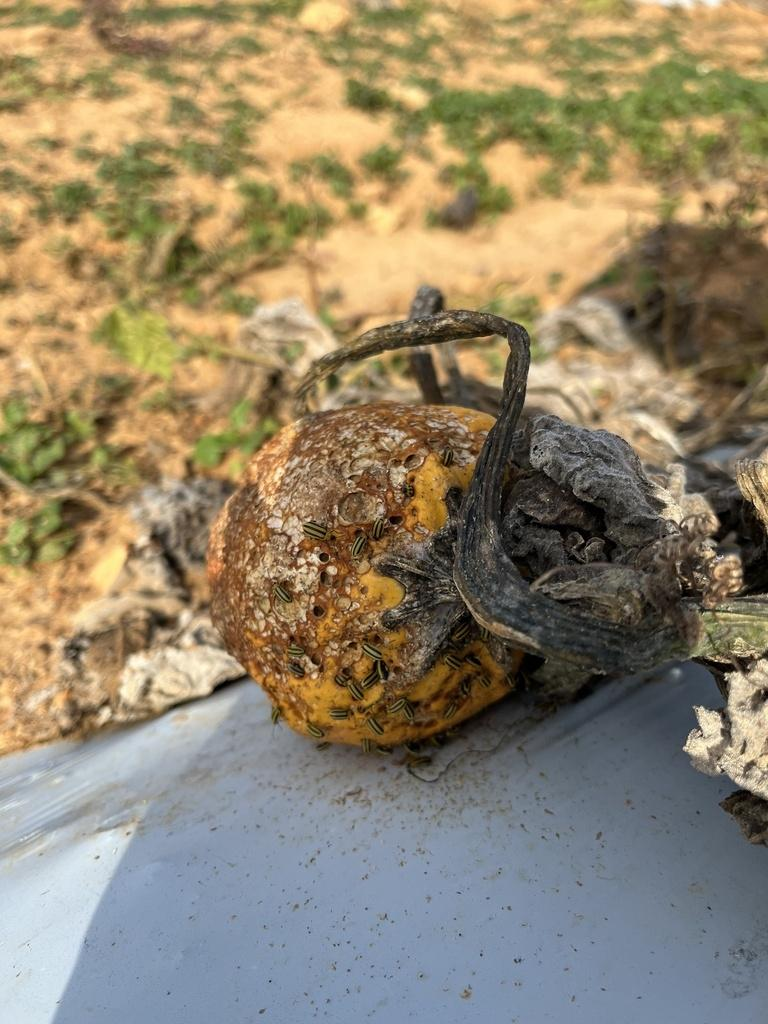potato_beetle: (295, 511, 343, 548), (267, 574, 296, 609), (356, 636, 388, 664), (348, 531, 368, 560)
